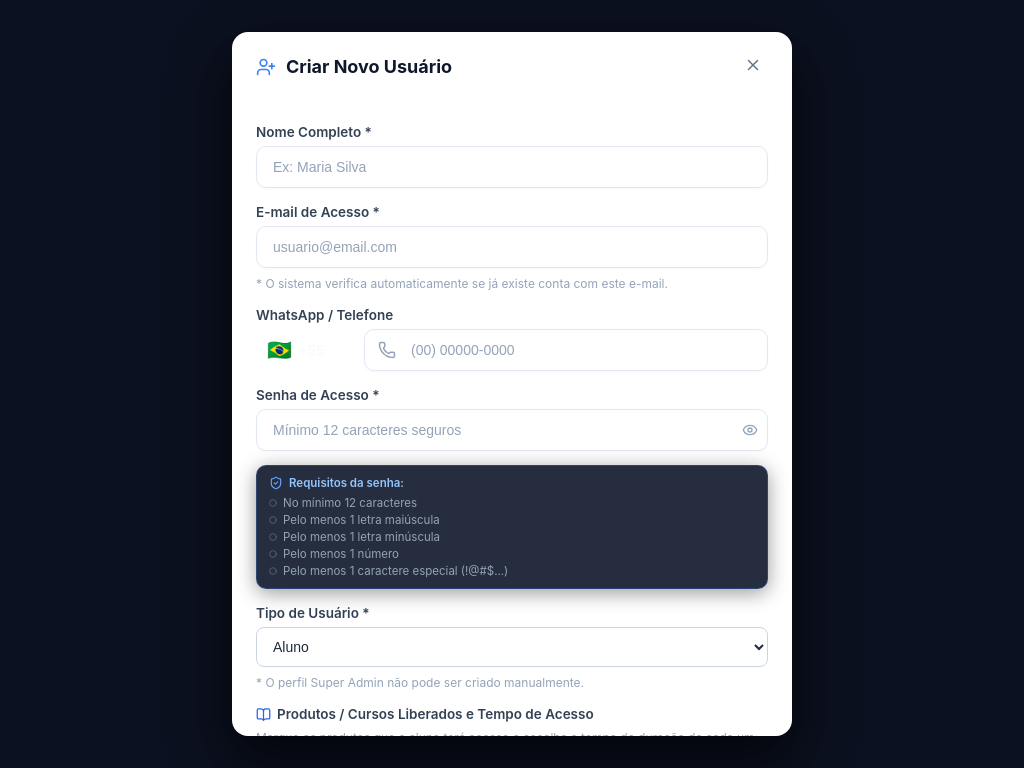
Test: CreateUserManualModal Component › displays error banner when API returns error (duplicate email)
Type "Aluno Repetido" into the field with test id "create-user-name-input". click: (512, 167)
box: 256,146 -> 768,188
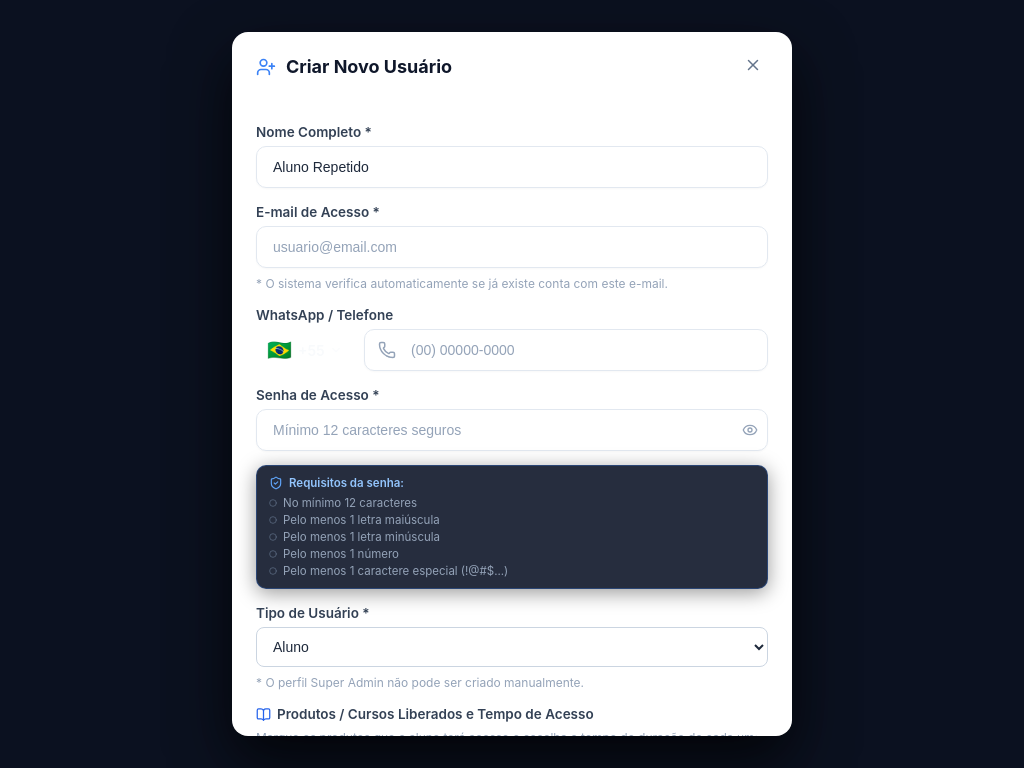
Type "duplicado@teste.com" into the field with test id "create-user-email-input". click: (512, 247)
box: 256,226 -> 768,268
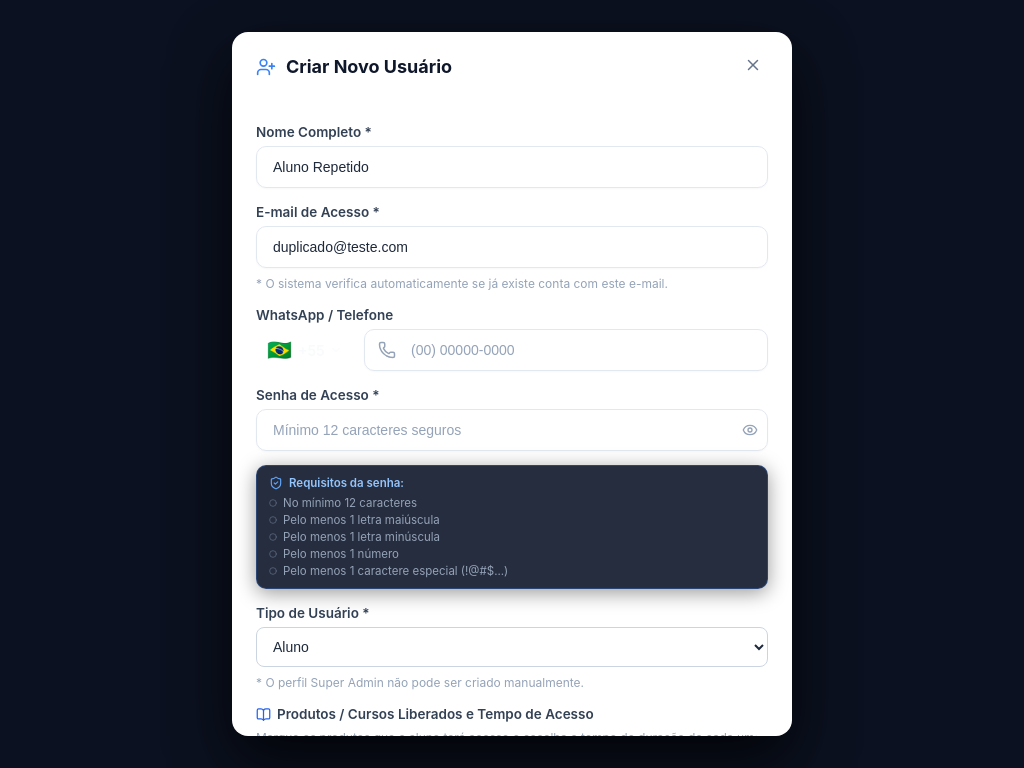
Type "MinhaSenhaSegura123!" into the password field with test id "create-user-password-input". click: (512, 430)
box: 256,409 -> 768,451
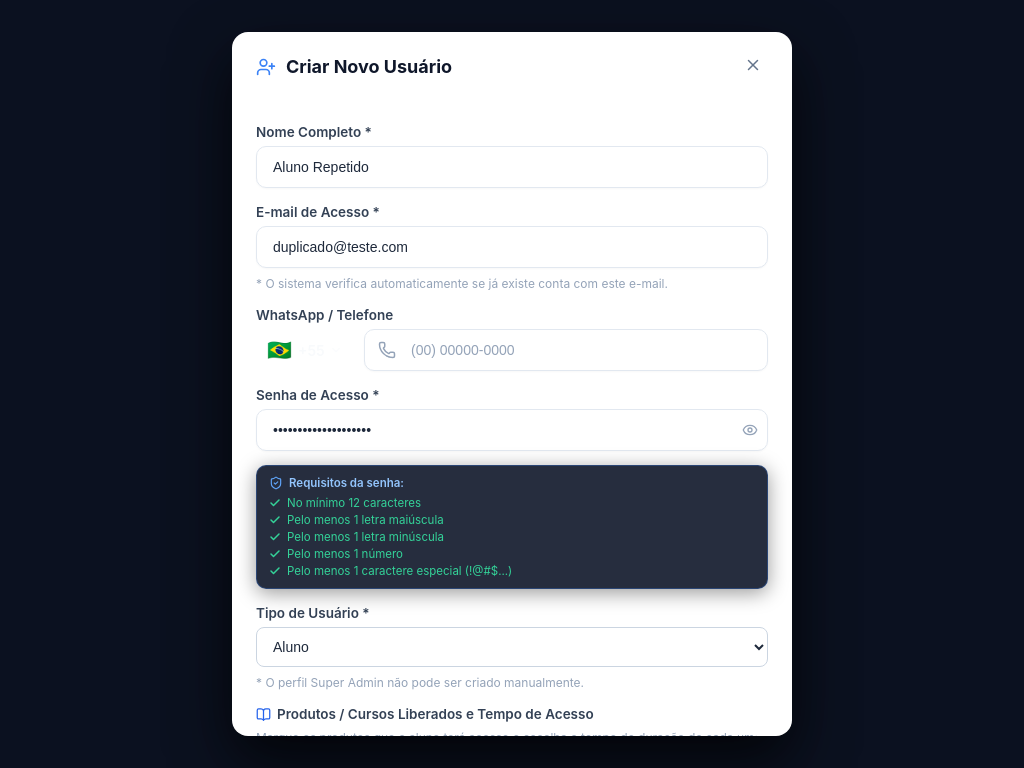
Submit the form with test id "create-user-form", box 232,102 -> 792,736
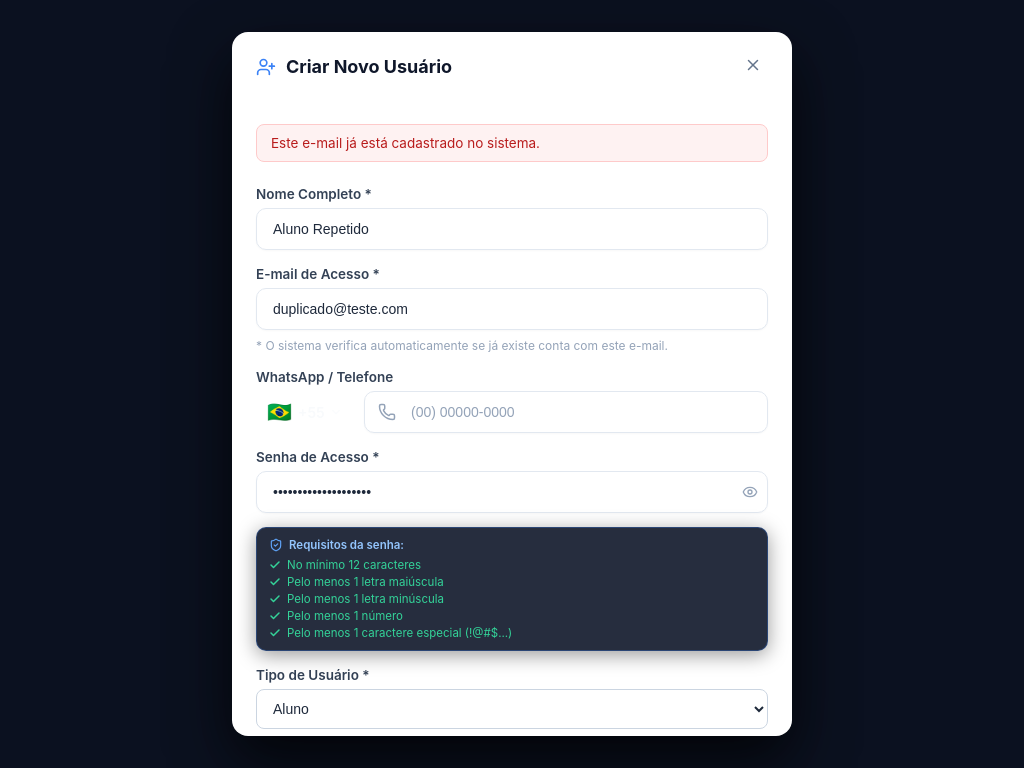
Check: the text with test id "create-user-error-banner" reads "Este e-mail já está cadastrado no sistema.", box 271,135 -> 540,151
